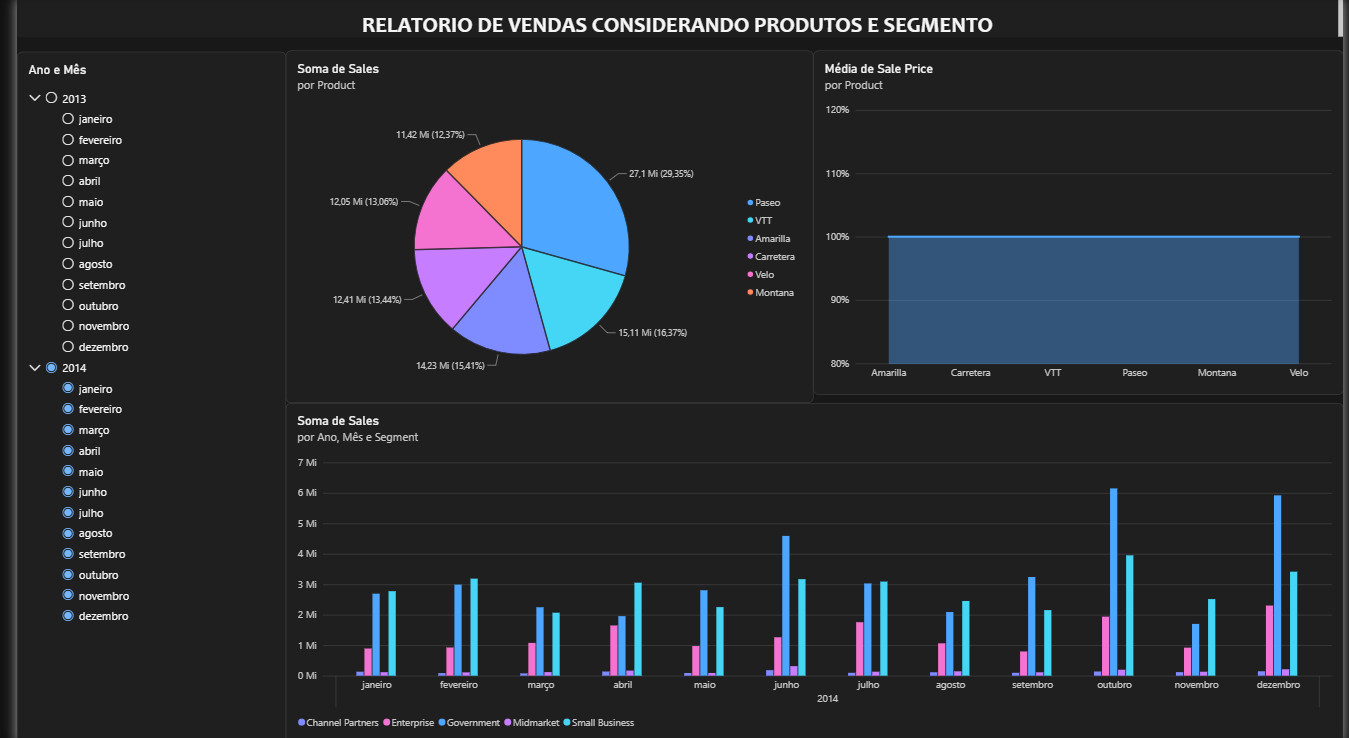

What the dashboard file says about the page in this screenshot:
{"tool":"powerbi","page":{"name":"RELATORIO DE SEGMENTOS","canvas":[1920,1080],"ordinal":0},"visuals":[{"type":"pieChart","fields":{"Category":["financials.Product"],"Y":["Sum(financials. Sales)"]},"box":[389,76.2,763.6,510.5],"z":0},{"type":"hundredPercentStackedAreaChart","fields":{"Category":["financials.Product"],"Y":["Avg(financials.Sale Price)"]},"box":[1152.7,76.2,767.8,498.1],"z":1000},{"type":"clusteredColumnChart","fields":{"Category":["financials.Date.Variation.Hierarquia de datas.Ano","financials.Date.Variation.Hierarquia de datas.Mês"],"Series":["financials.Segment"],"Y":["Sum(financials. Sales)"]},"box":[389,586.6,1531.4,494],"z":2000},{"type":"listSlicer","fields":{"Values":["financials.Date.Variation.Hierarquia de datas.Ano","financials.Date.Variation.Hierarquia de datas.Mês"]},"box":[0,77.1,389.8,1002.8],"z":2001},{"type":"textbox","box":[0,0,1920.4,56.8],"z":2002}]}

Visuals, with their boxes on the page's 1920x1080 design canvas (x1, y1, x2, y2). These are canvas units, not pixel positions in the 1349x738 screenshot, which may show the page scaled, cropped or inside an application window:
pieChart - financials.Product x Sum(financials. Sales): pyautogui.locateOnScreen(389, 76, 1153, 587)
hundredPercentStackedAreaChart - financials.Product x Avg(financials.Sale Price): pyautogui.locateOnScreen(1153, 76, 1920, 574)
clusteredColumnChart - financials.Date.Variation.Hierarquia de datas.Ano x financials.Date.Variation.Hierarquia de datas.Mês: pyautogui.locateOnScreen(389, 587, 1920, 1081)
listSlicer - financials.Date.Variation.Hierarquia de datas.Ano x financials.Date.Variation.Hierarquia de datas.Mês: pyautogui.locateOnScreen(0, 77, 390, 1080)
textbox: pyautogui.locateOnScreen(0, 0, 1920, 57)
